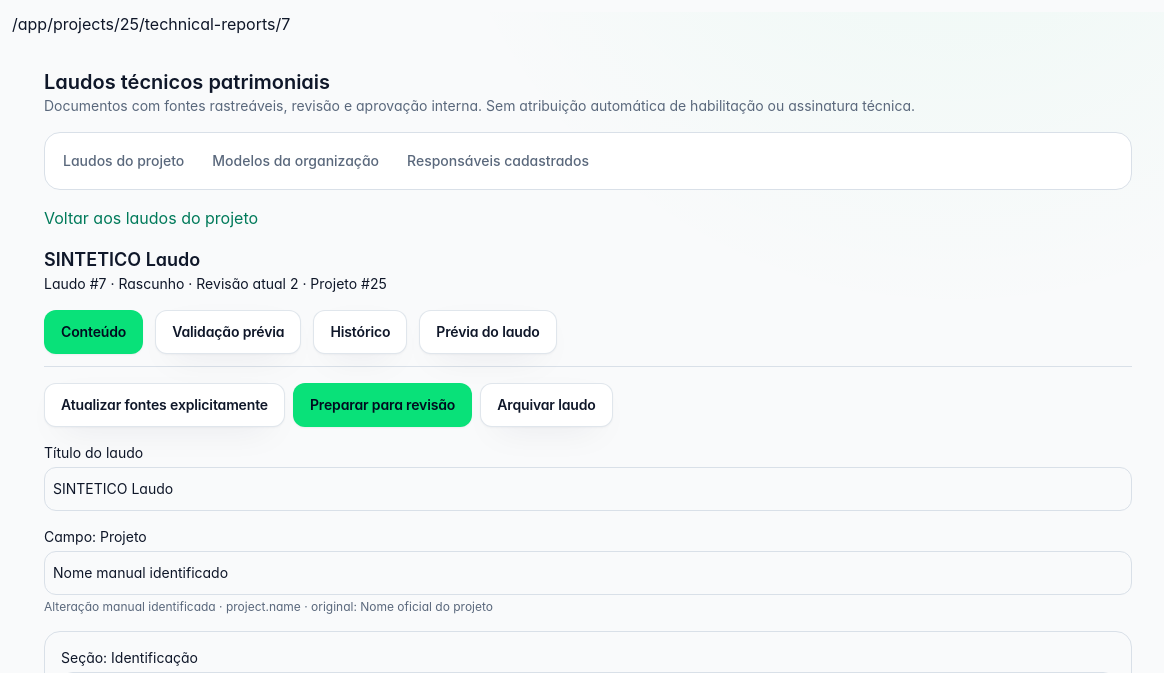
Test: Project technical report navigation and editing › loads structured server validation through the actual route view
Expected: the field labelled "Título do laudo" is shown, [44, 467, 1132, 511]
Click the button "Validação prévia" at (228, 332), box [155, 310, 302, 354]
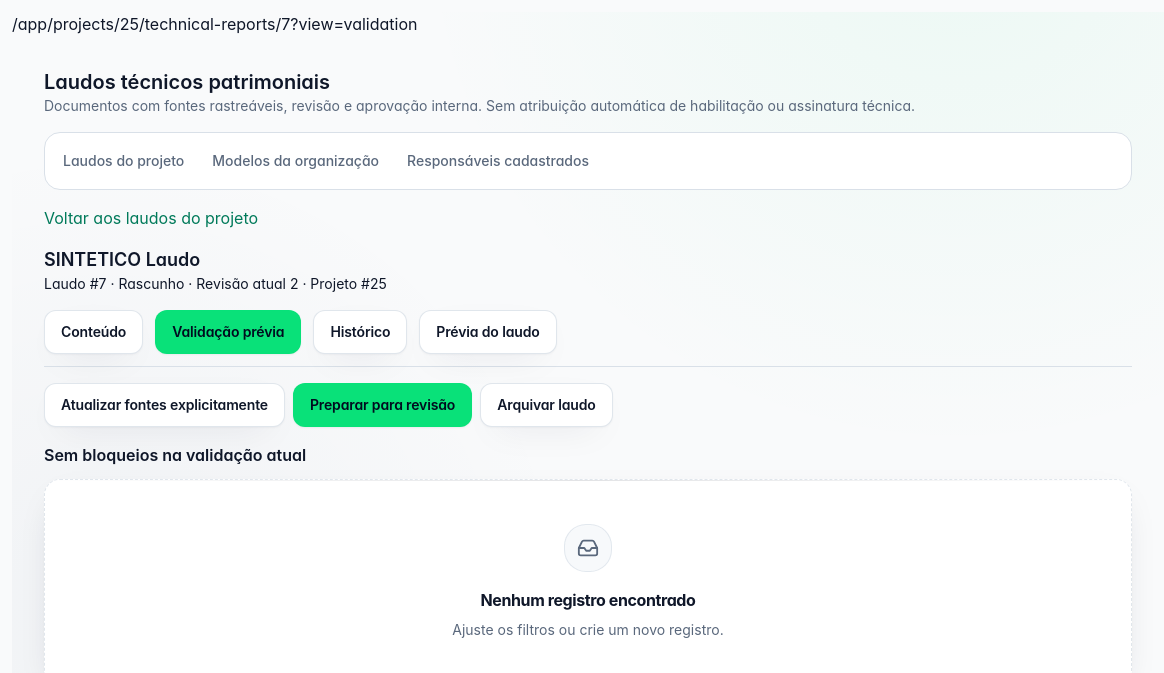
Result: the heading "Sem bloqueios na validação atual" is shown at [44, 445, 306, 465]
Result: the text with test id "location" shows "view=validation" at [12, 14, 417, 34]
